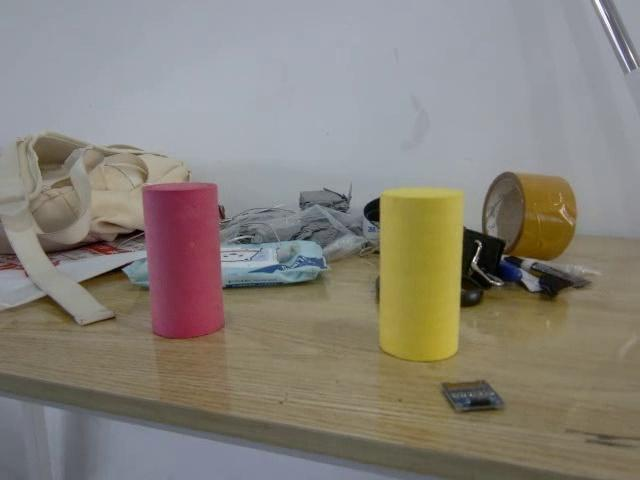red_cylinder: (142, 182, 225, 340)
yellow_cylinder: (380, 186, 461, 361)
